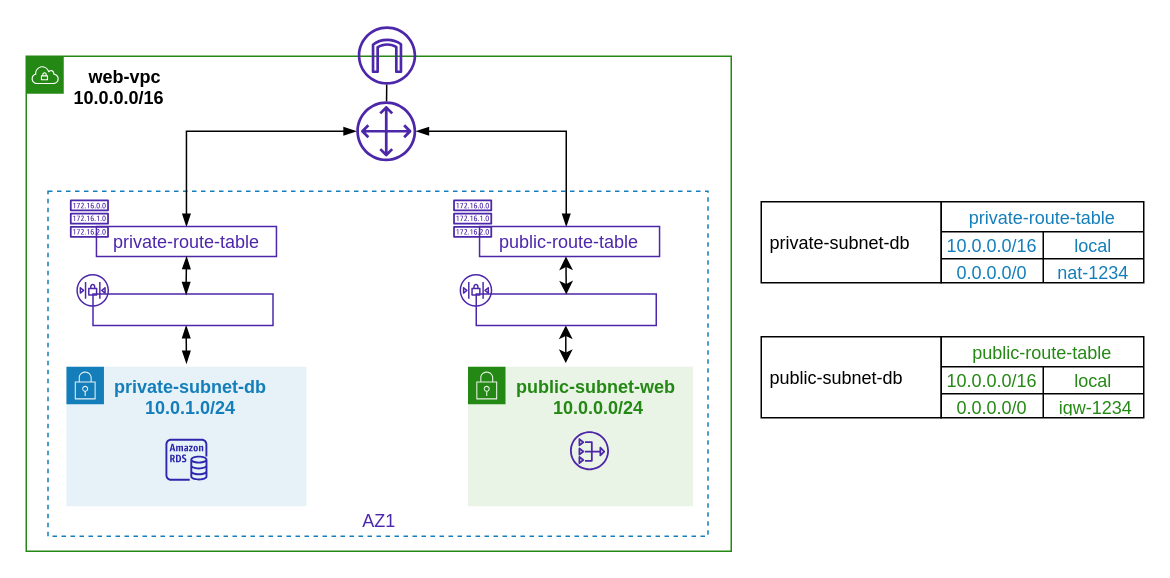
This 1170x578 diagram has some shape labels left out. Each missing label, with the centre of its shape:
"NAT gateway" goes at point (588, 450).
"private NACL" goes at point (182, 309).
"public NACL" goes at point (565, 309).
